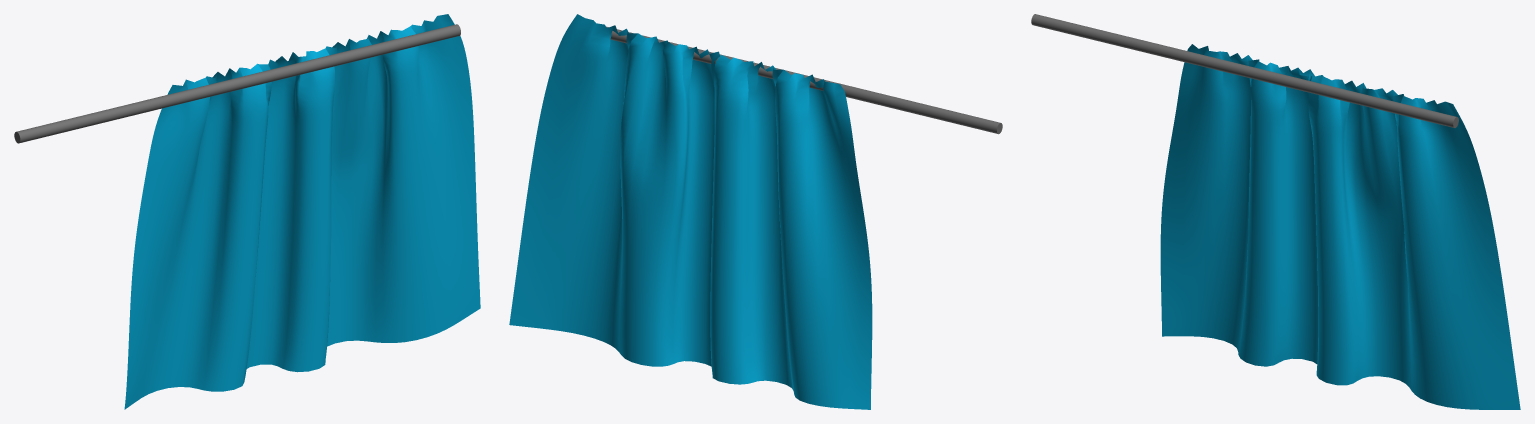
File: Shower Curtains.fbx
The picture shows the model from 3 angles, left to right: view 1: azimuth 30°, elevation 25°; view 2: azimuth 150°, elevation 25°; view 3: azimuth 330°, elevation 25°; orthographic projection. The views are drawn at different scales.
Parts seen in each view (by area): view 1: pPlane2group2, pCylinder76; view 2: pPlane2group2, pCylinder76; view 3: pPlane2group2, pCylinder76.
Part boxes in pixels (x1,y1,x2,y2): pPlane2group2: [124, 14, 480, 409]; pCylinder76: [14, 24, 460, 143]; pPlane2group2: [509, 14, 872, 409]; pCylinder76: [606, 26, 1002, 134]; pPlane2group2: [1160, 44, 1520, 409]; pCylinder76: [1031, 14, 1458, 127].
Bounding box in the file's own units: 13.43 × 8.64 × 1.43.
